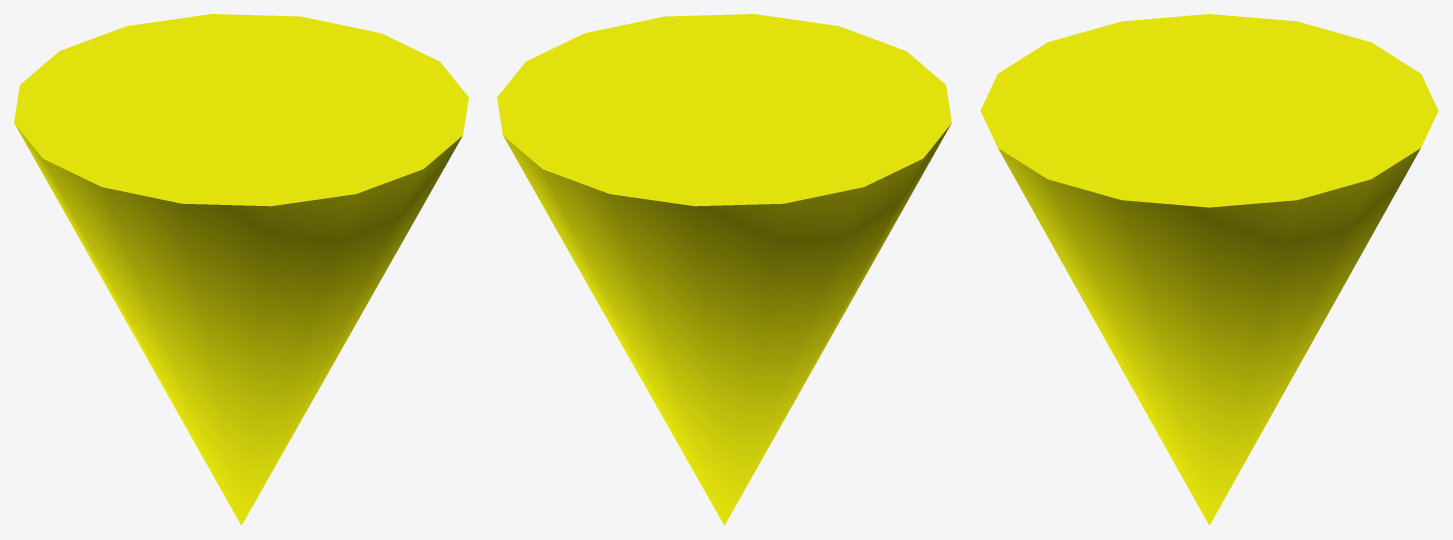
The picture shows the model from 3 angles, left to right: view 1: azimuth 30°, elevation 25°; view 2: azimuth 150°, elevation 25°; view 3: azimuth 270°, elevation 25°; orthographic projection.
Parts seen in each view (by area): view 1: Cone; view 2: Cone; view 3: Cone.
Boxes of the visible parts, x1,y1,x2,y2 form: Cone: (14,14,468,525); Cone: (497,14,951,525); Cone: (980,14,1438,525).
Size of the model in its own units: 2 by 2 by 2.
